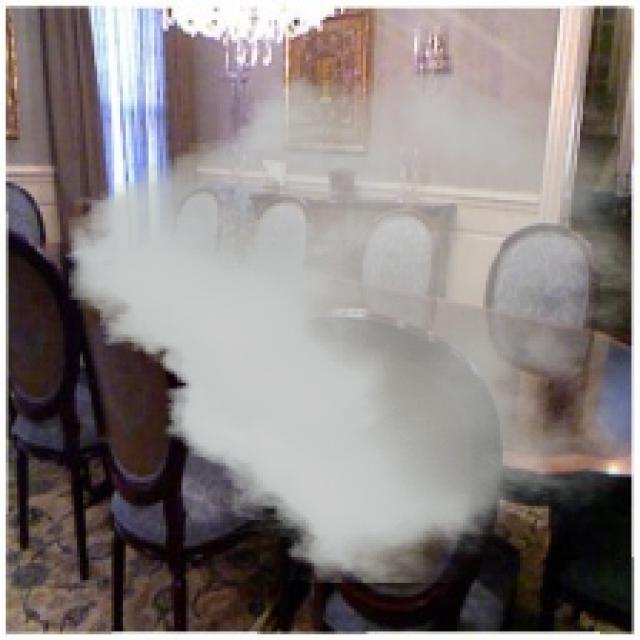smoke: (69, 68, 634, 583)
